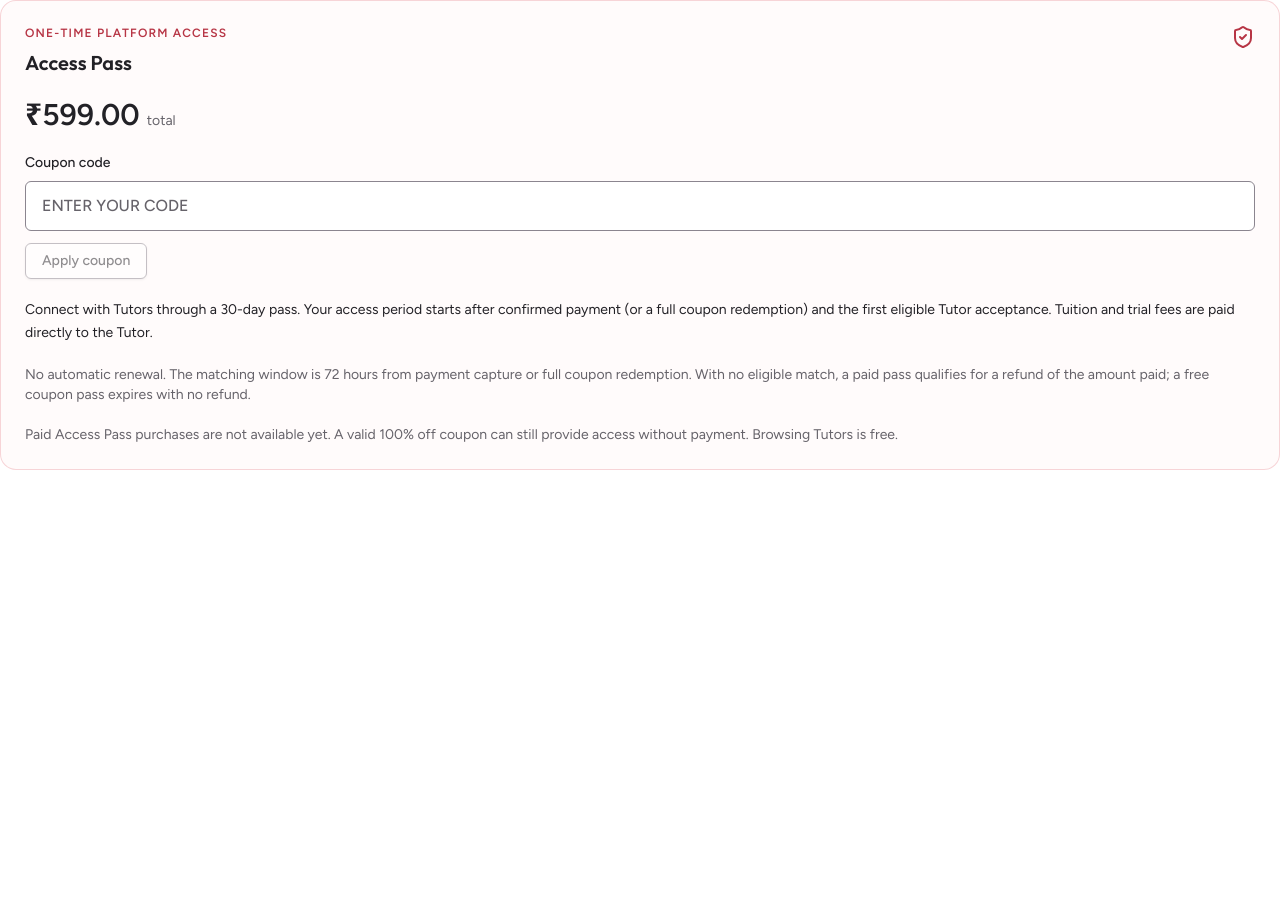
Test: redeems a full coupon when paid checkout is disabled without loading Razorpay
In the field labelled "Coupon code": (640, 206) [25,181,1255,231], type "beta100"
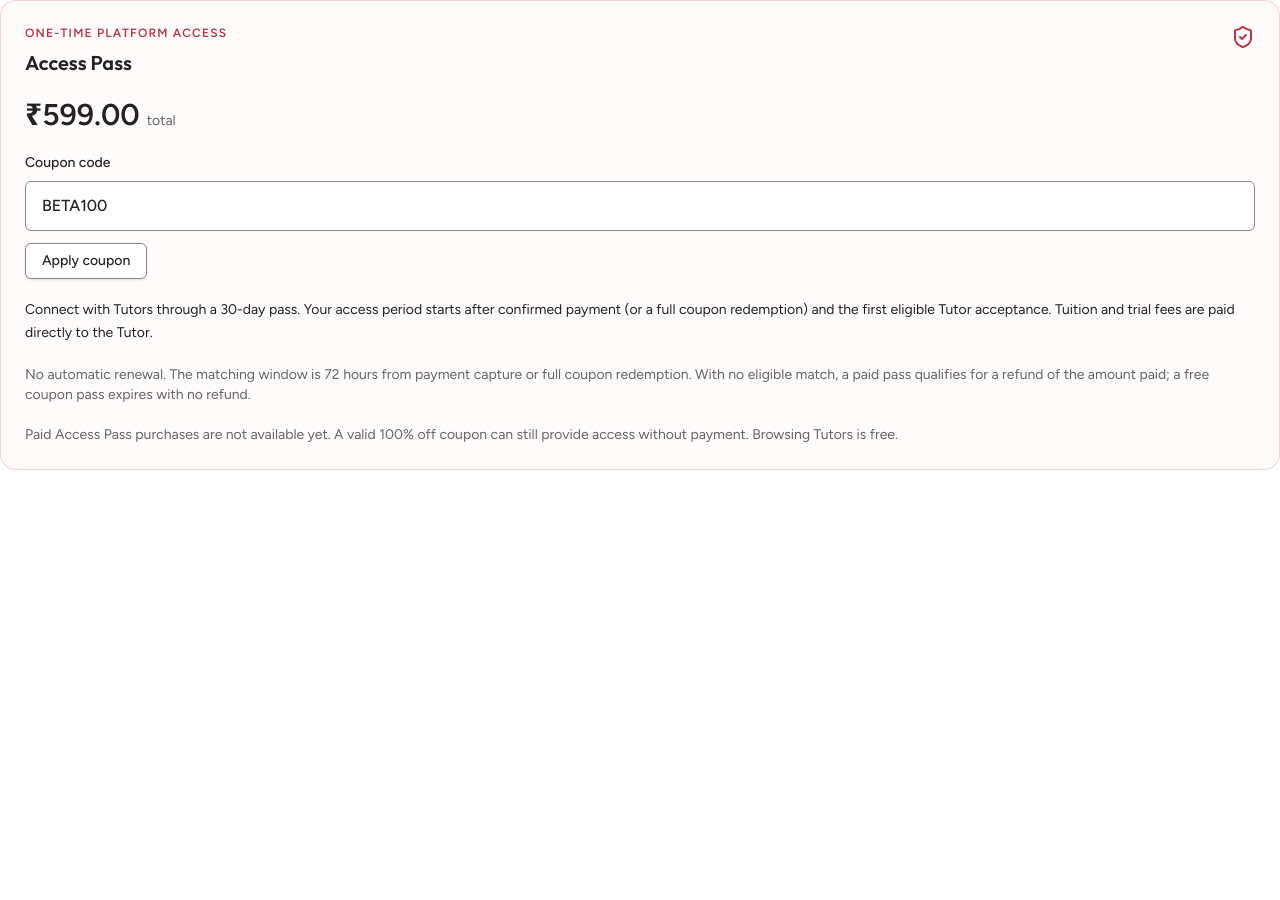
Click the button "Apply coupon": (86, 261) [25,243,147,279]
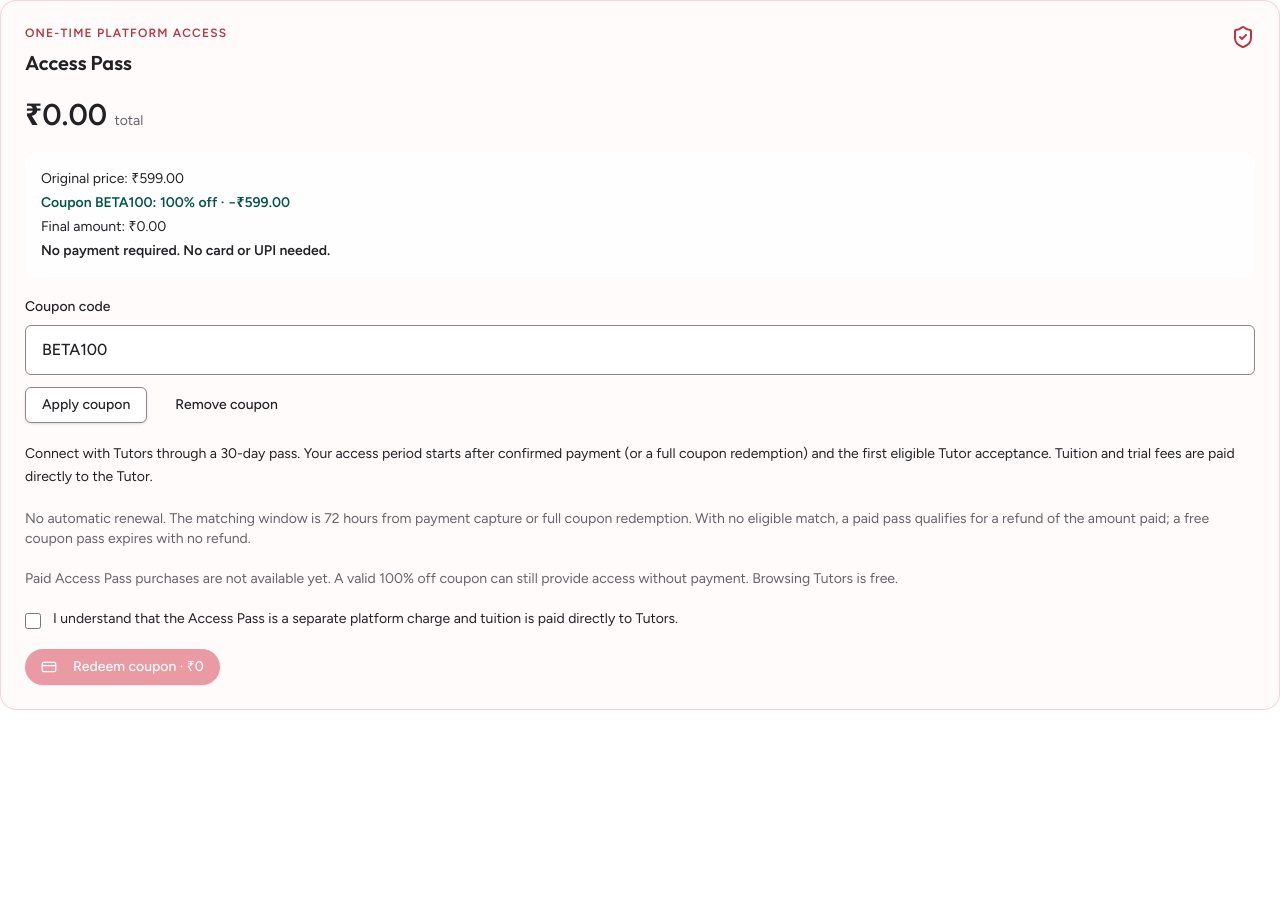
Now the text "No payment required. No card or UPI needed." is shown, box [41,242,330,259]
Click the checkbox: (33, 620) [25,612,41,628]
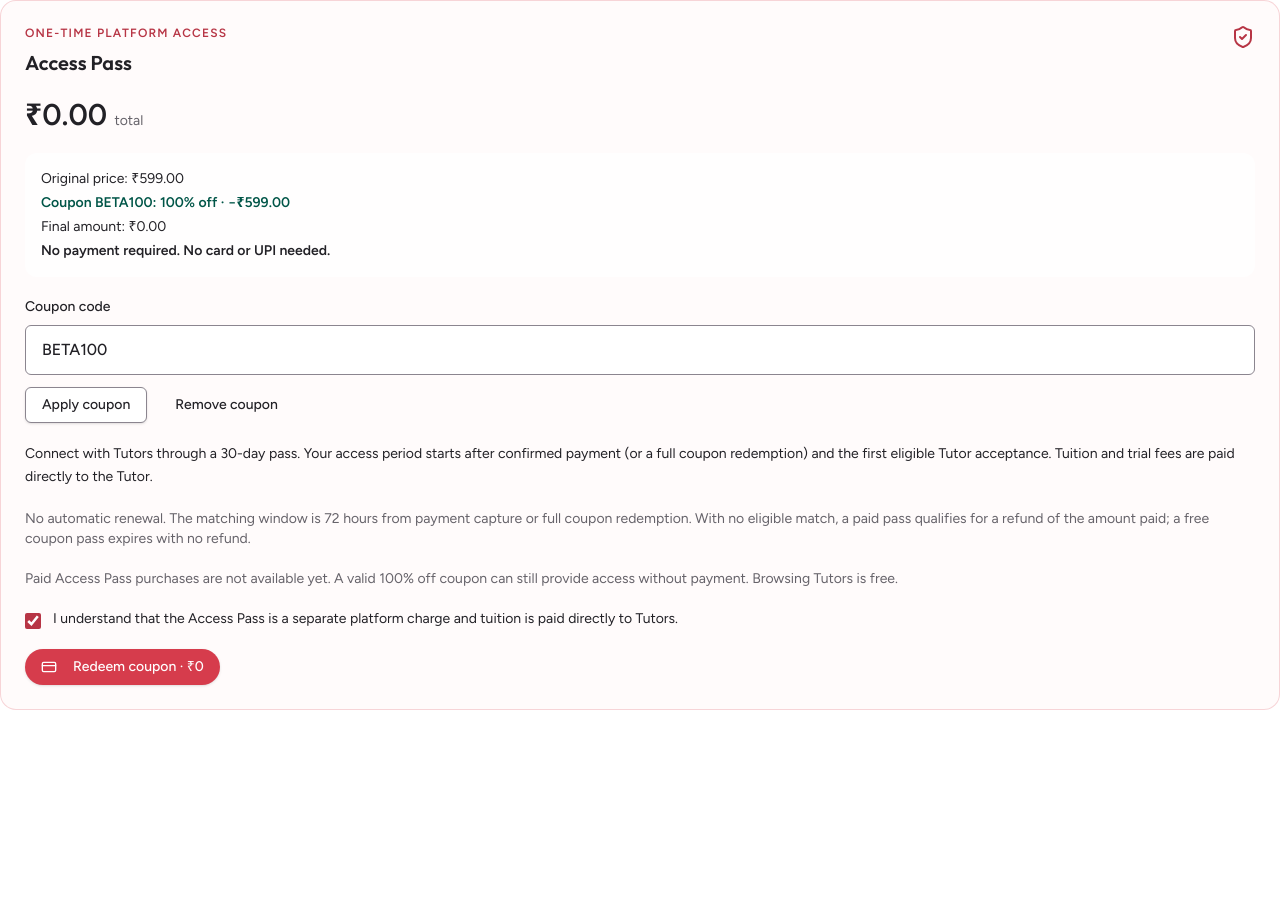
Click the button "Redeem coupon · ₹0": (122, 666) [25,648,220,684]
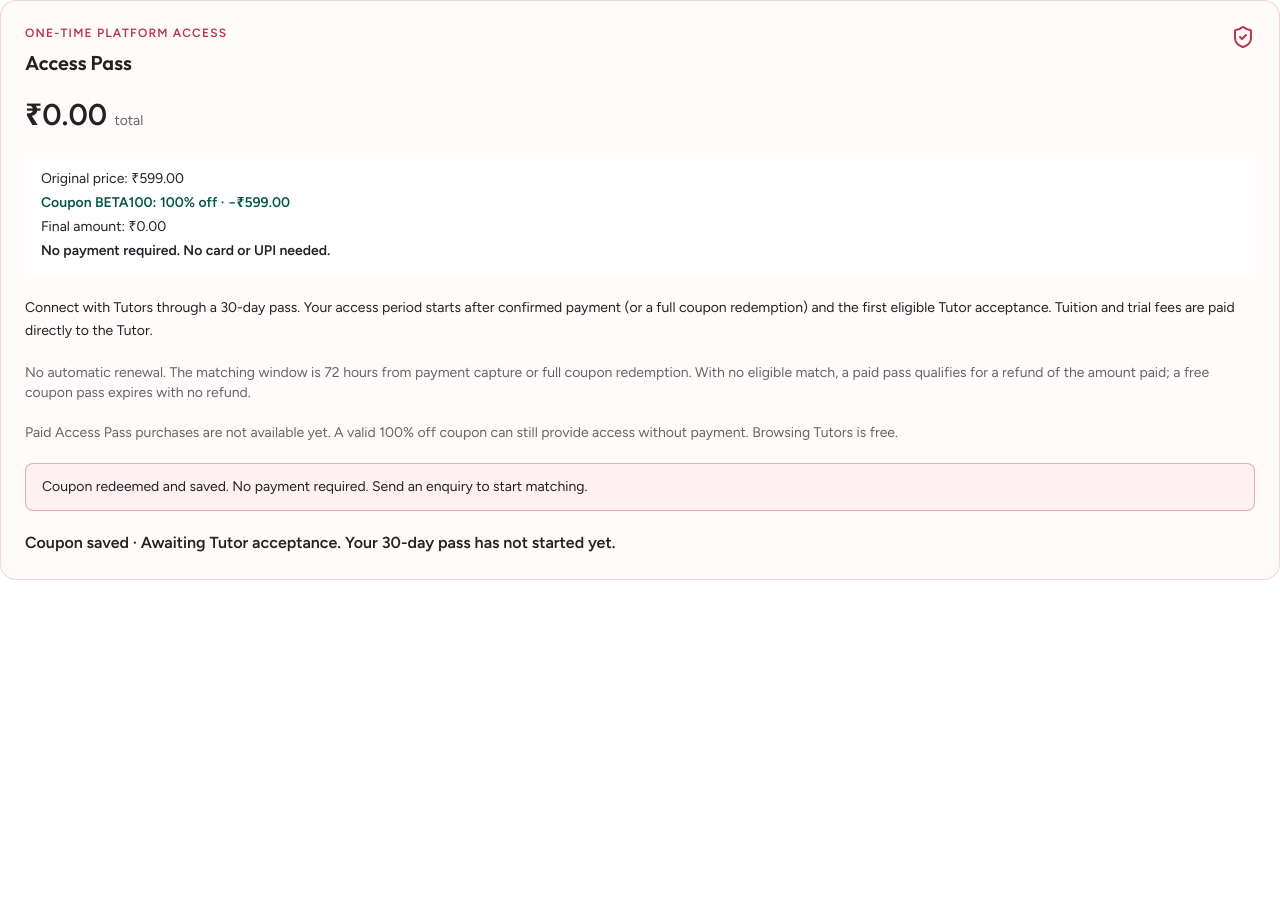
Now the text "Coupon redeemed and saved" is shown, box [42,478,587,494]
